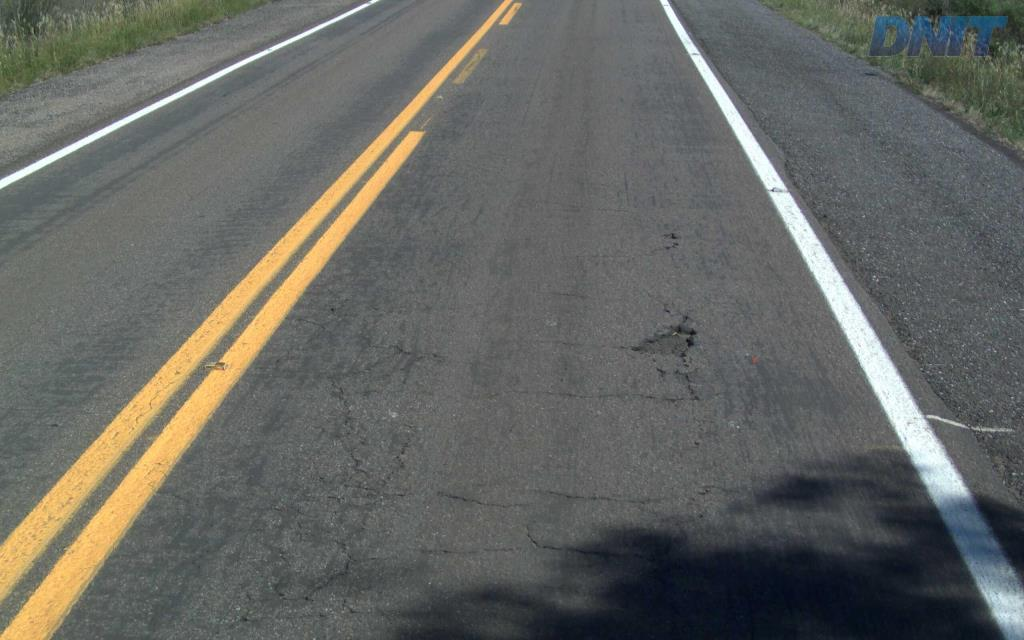pothole: (628, 312, 710, 361)
